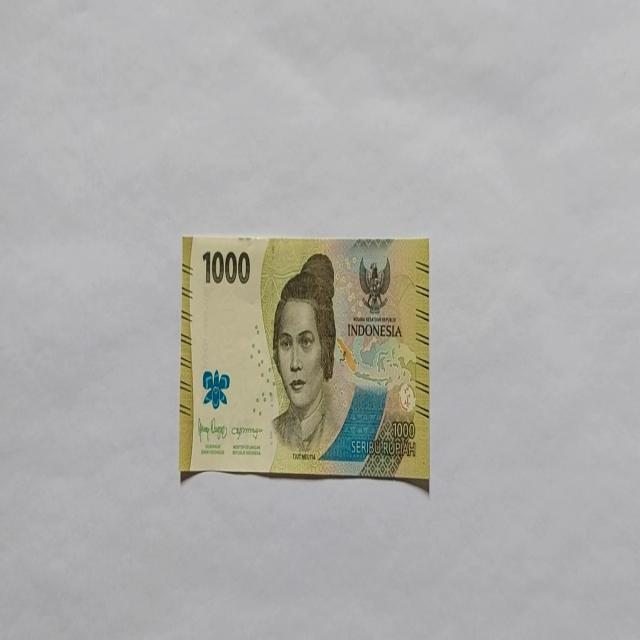seribu rupiah kertas: (178, 233, 430, 484)
